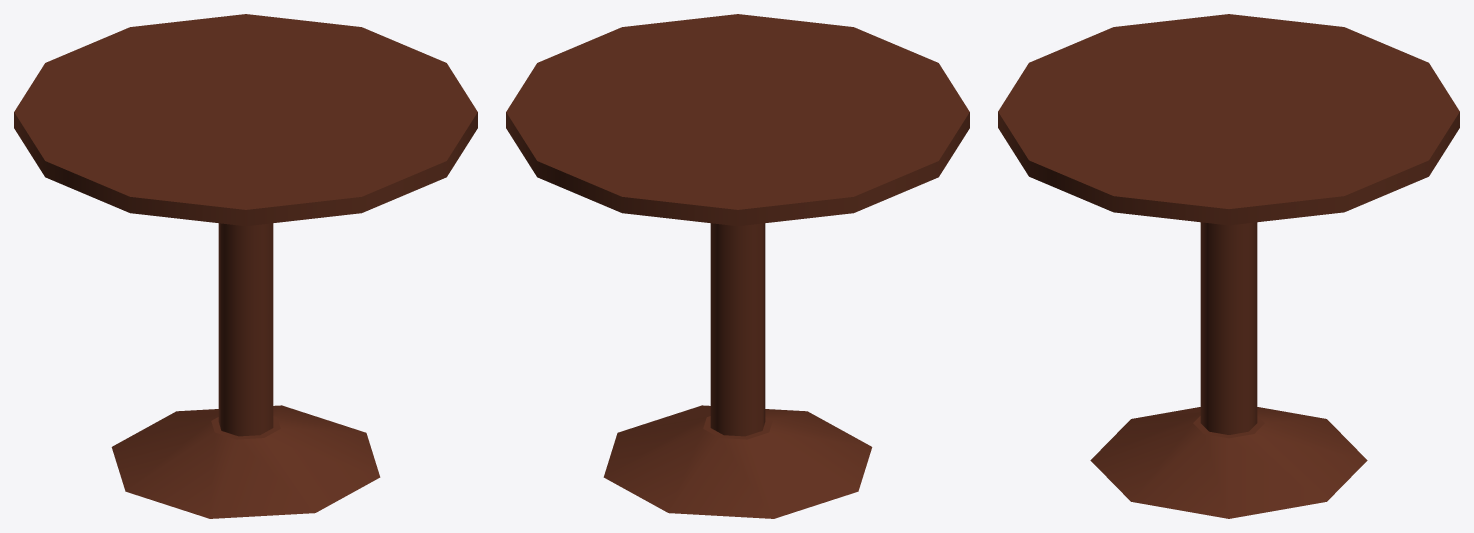
File: parametric-round_table-1st.glb
The picture shows the model from 3 angles, left to right: view 1: azimuth 30°, elevation 25°; view 2: azimuth 150°, elevation 25°; view 3: azimuth 270°, elevation 25°; orthographic projection.
Visible parts, largest first — view 1: parametric-round_table-1st; view 2: parametric-round_table-1st; view 3: parametric-round_table-1st.
Boxes of the visible parts, box(x1,y1,x2,y2) form: parametric-round_table-1st: box(14, 14, 477, 518); parametric-round_table-1st: box(506, 14, 969, 518); parametric-round_table-1st: box(998, 14, 1459, 518).
Size of the model in its own units: 0.9 by 0.75 by 0.9.
